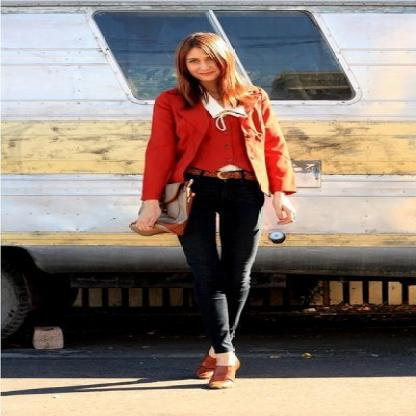bag: (152, 180, 194, 236)
jacket: (142, 84, 294, 200)
pants: (178, 176, 268, 356)
shoe: (198, 347, 236, 389)
